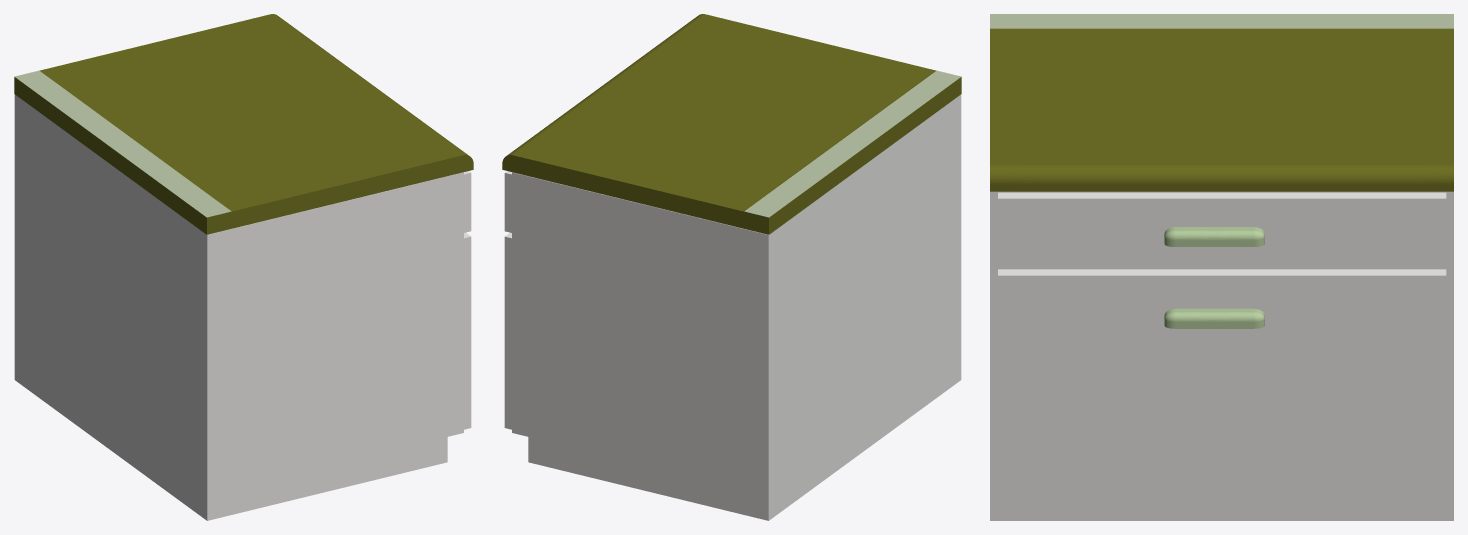
File: counter2-v2.fbx
The picture shows the model from 3 angles, left to right: view 1: azimuth 30°, elevation 25°; view 2: azimuth 150°, elevation 25°; view 3: azimuth 270°, elevation 25°; orthographic projection. The views are drawn at different scales.
Parts seen in each view (by area): view 1: counter-h; view 2: counter-h; view 3: counter-h.
Part boxes in pixels (<box>): counter-h: <box>14,14,473,520</box>; counter-h: <box>502,14,961,520</box>; counter-h: <box>990,14,1453,520</box>.
Size of the model in its own units: 501 by 522 by 600.
